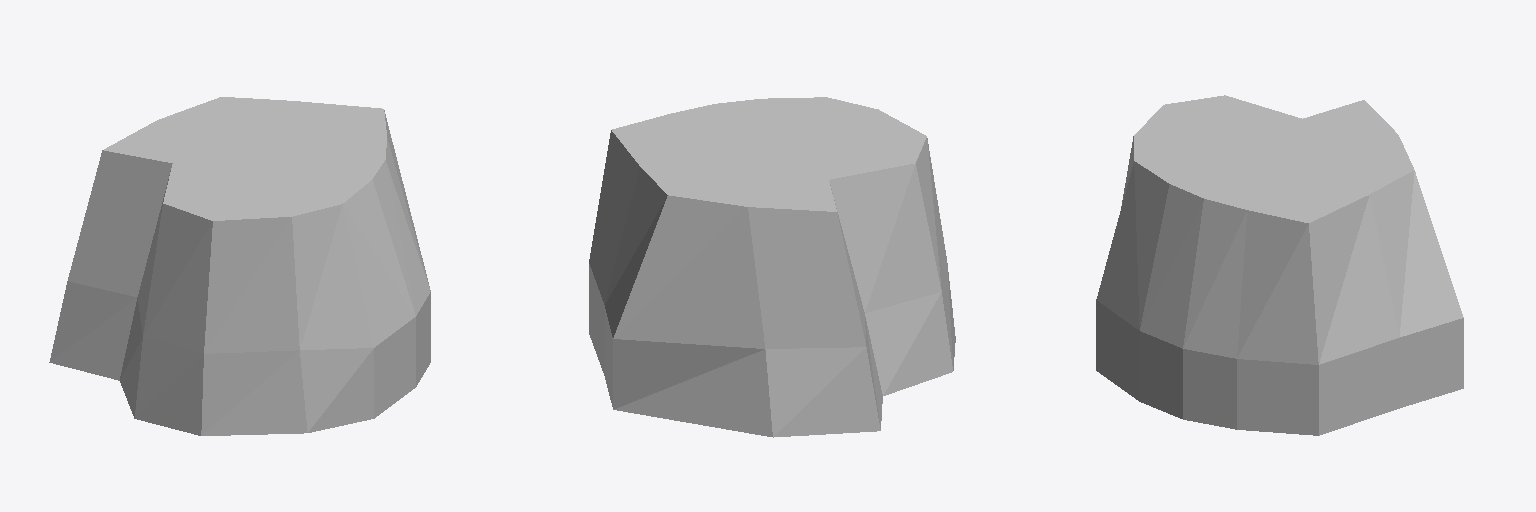
Rendered from Stone 3.obj.
The picture shows the model from 3 angles: view 1: azimuth 30°, elevation 25°; view 2: azimuth 150°, elevation 25°; view 3: azimuth 270°, elevation 25°; orthographic projection.
Visible parts, largest first — view 1: Rock4; view 2: Rock4; view 3: Rock4.
Boxes of the visible parts, x1,y1,x2,y2 form: Rock4: [49, 97, 430, 435]; Rock4: [589, 97, 955, 437]; Rock4: [1096, 95, 1463, 435].
Bounding box in the file's own units: 15.75 × 9.61 × 15.69.